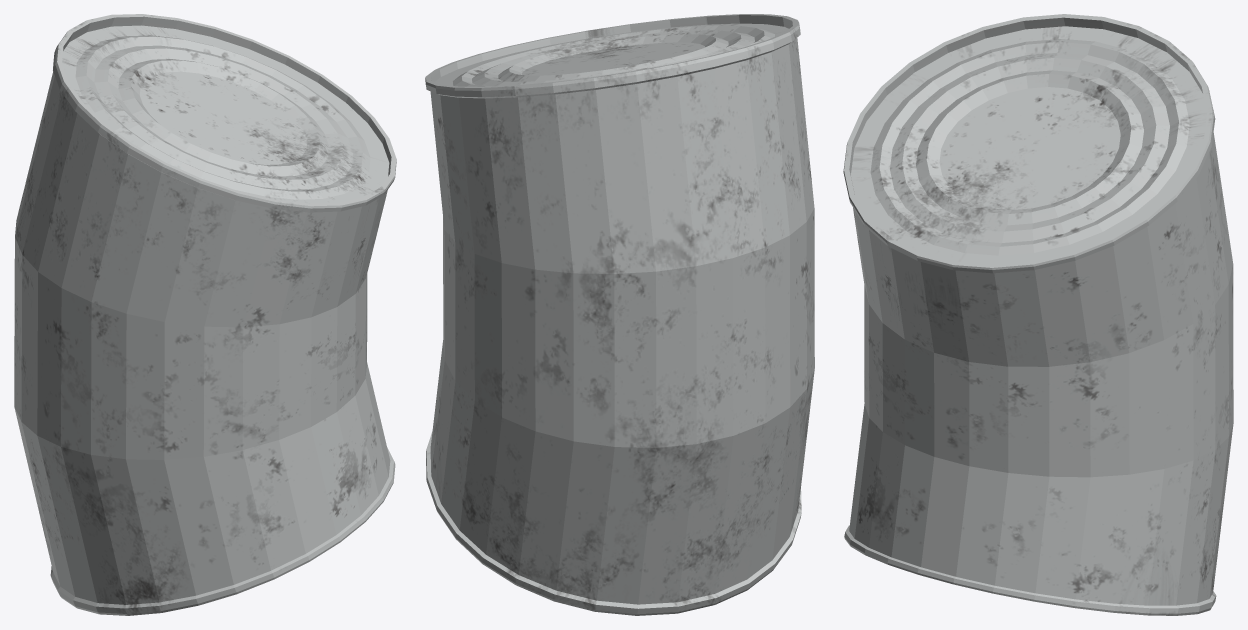
The model's file is bend_medium_0.obj.
3 renders of one model, left to right at view 1: azimuth 30°, elevation 25°; view 2: azimuth 150°, elevation 25°; view 3: azimuth 270°, elevation 25°, orthographic. The views are drawn at different scales.
Parts seen in each view (by area): view 1: Cam_l__0; view 2: Cam_l__0; view 3: Cam_l__0.
Boxes of the visible parts, box(x1,y1,x2,y2) form: Cam_l__0: box(14, 14, 396, 615); Cam_l__0: box(425, 14, 814, 615); Cam_l__0: box(843, 14, 1233, 615).
Bounding box in the file's own units: 0.0979 × 0.1483 × 0.0965.
1 material, 1 textured.
